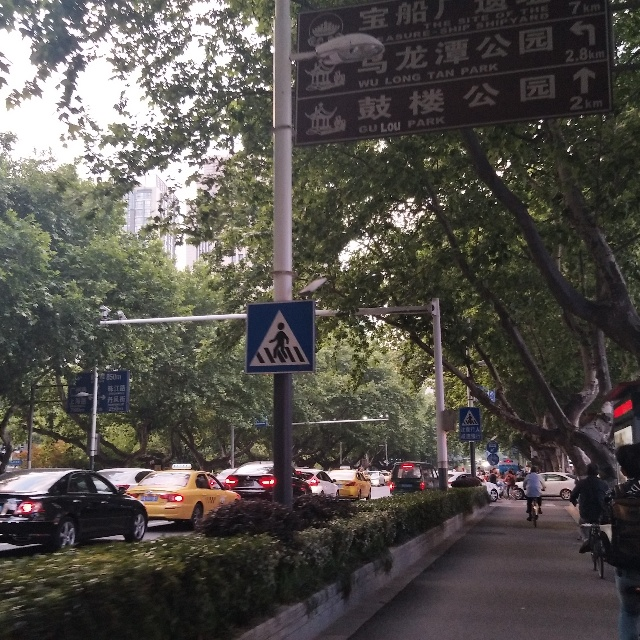crosswalk: (247, 301, 320, 375), (459, 405, 484, 445)
